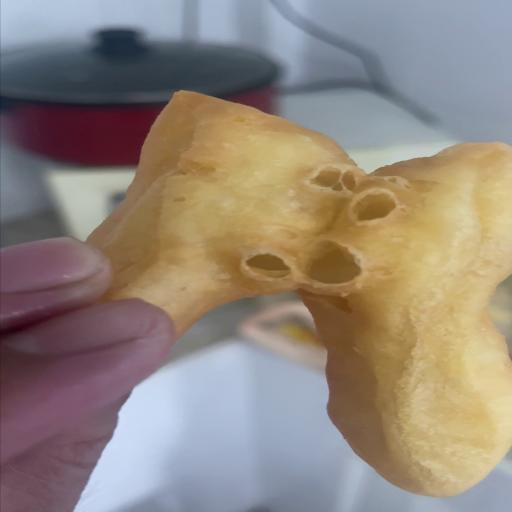street_golden_defect: (87, 95, 512, 501)
